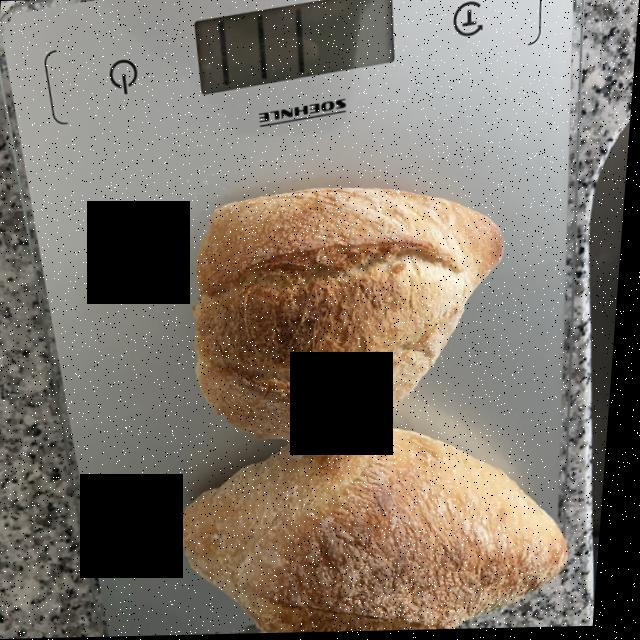bread-white: (195, 196, 570, 623)
